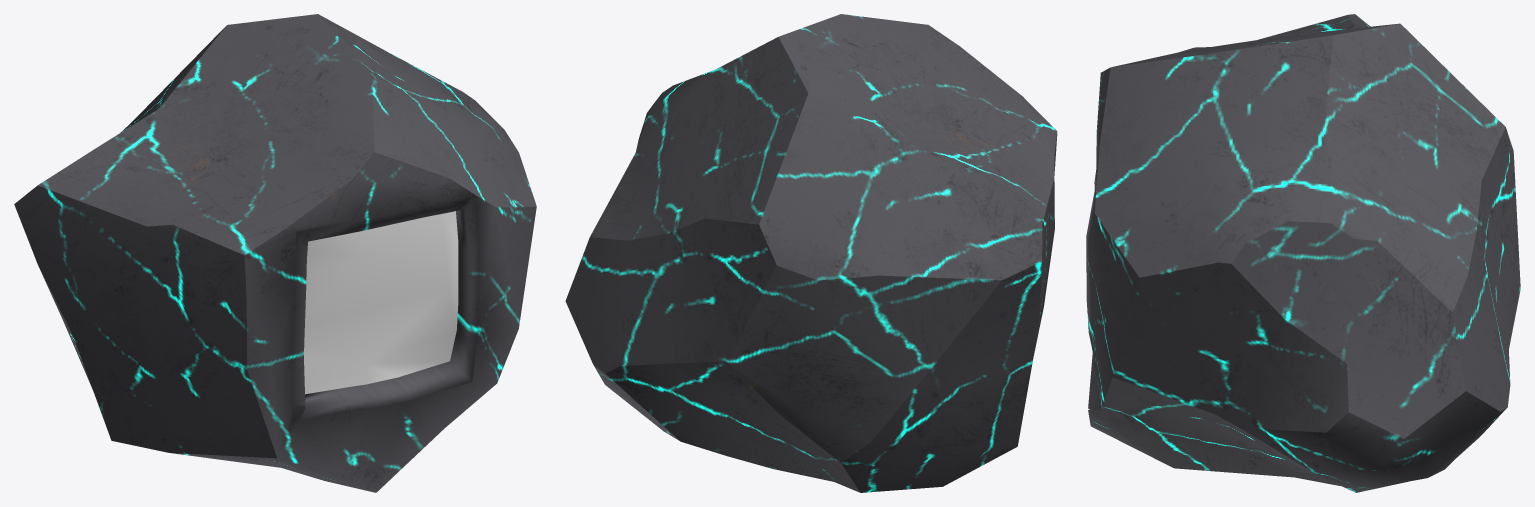
The picture shows the model from 3 angles, left to right: view 1: azimuth 30°, elevation 25°; view 2: azimuth 150°, elevation 25°; view 3: azimuth 270°, elevation 25°; orthographic projection. The views are drawn at different scales.
Visible parts, largest first — view 1: Stone_Low_Poly, Stone_Low_Poly__0.001; view 2: Stone_Low_Poly; view 3: Stone_Low_Poly.
Boxes of the visible parts, left/top/right/bottom form: Stone_Low_Poly: left=14, top=14, right=536, bottom=492; Stone_Low_Poly__0.001: left=304, top=211, right=458, bottom=394; Stone_Low_Poly: left=565, top=14, right=1057, bottom=492; Stone_Low_Poly: left=1086, top=14, right=1520, bottom=492.
Bounding box in the file's own units: 4.55 × 3.9 × 3.46.
2 materials, 1 textured.
